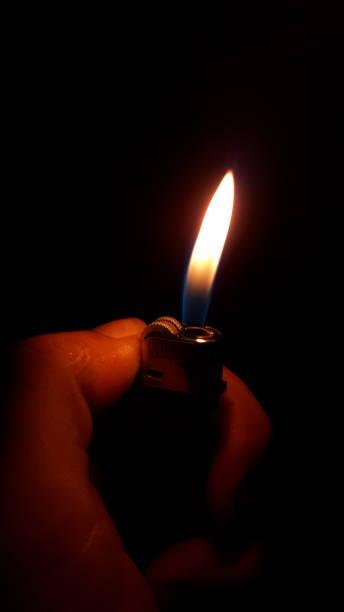Fire: (184, 150, 238, 330)
